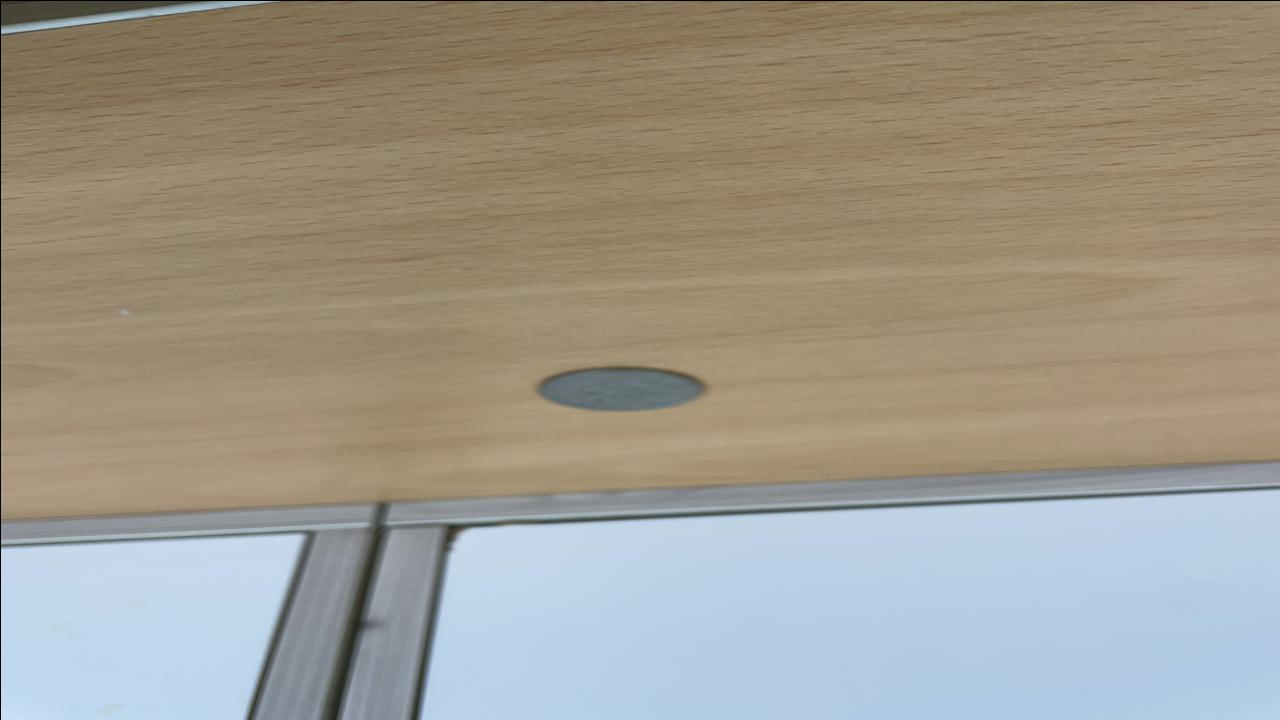coin: (528, 364, 710, 414)
